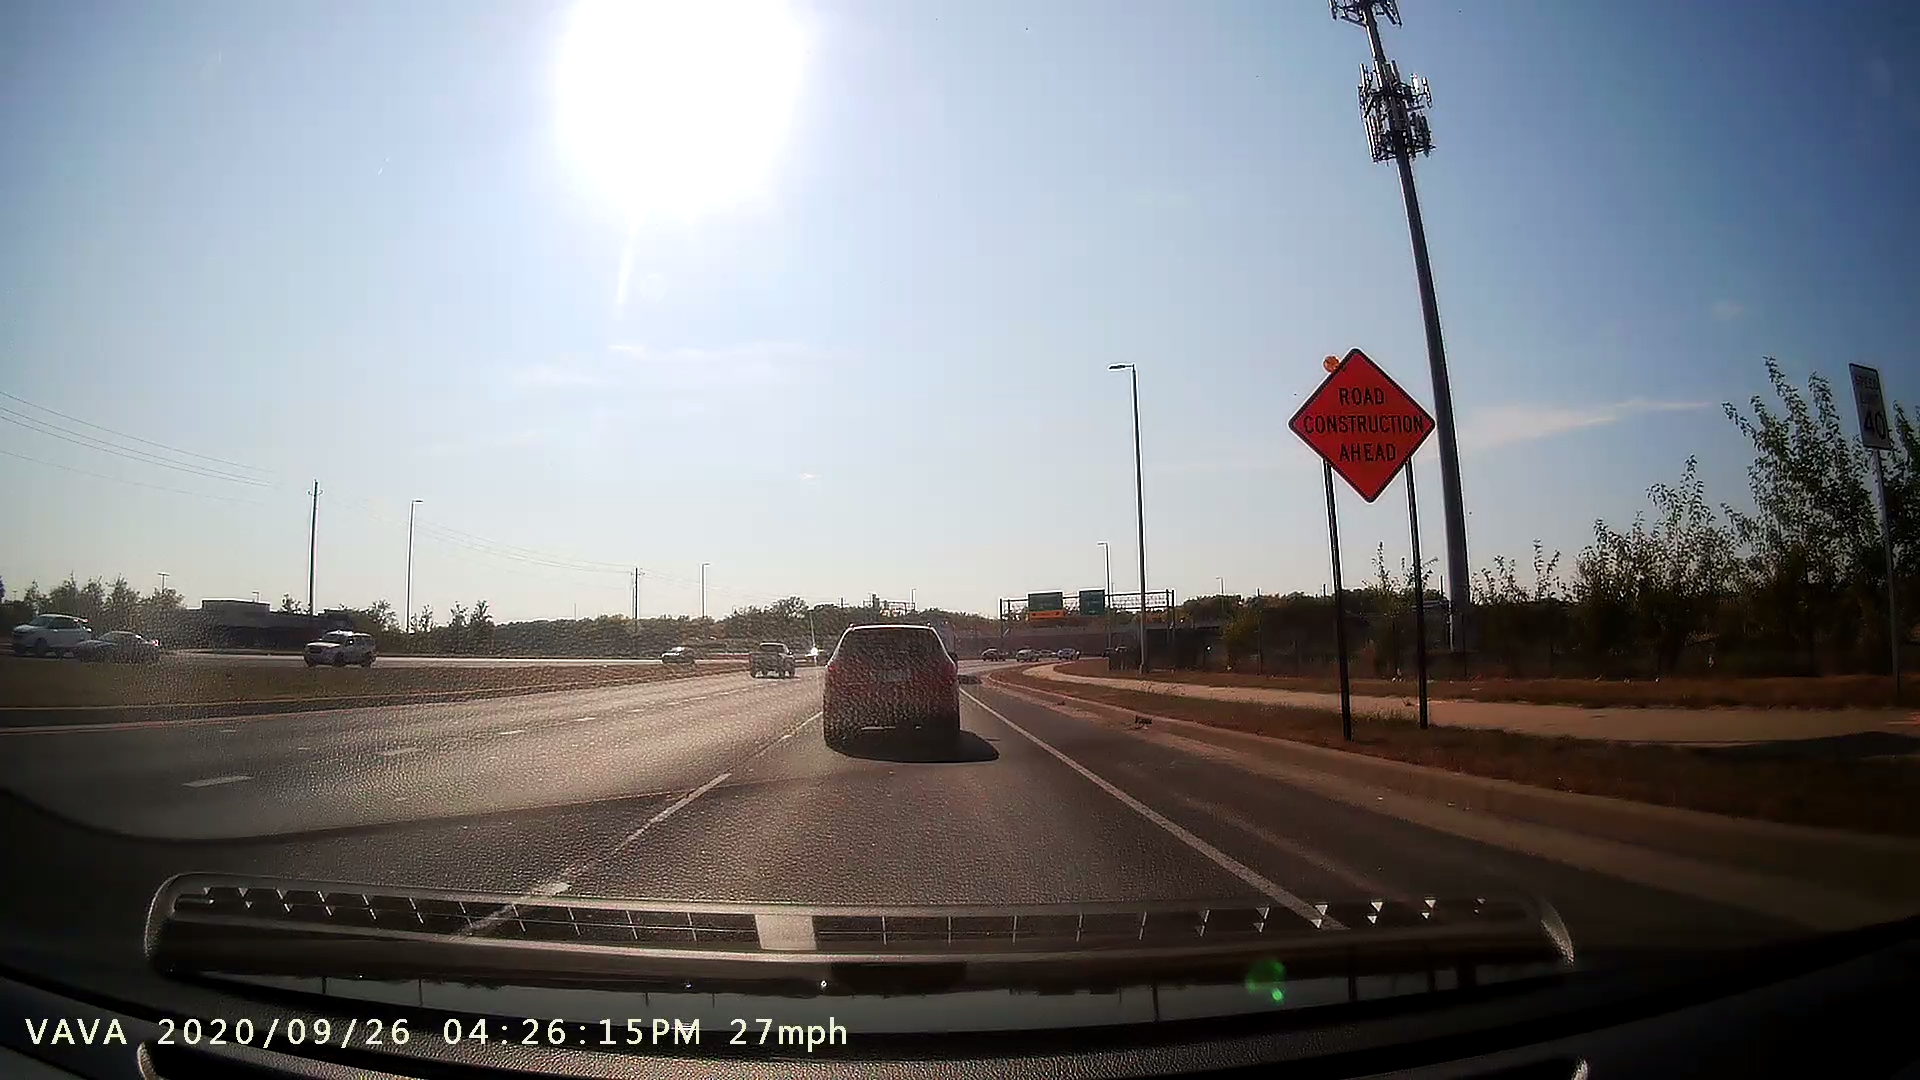ttcs_end_const: (1271, 323, 1456, 741)
